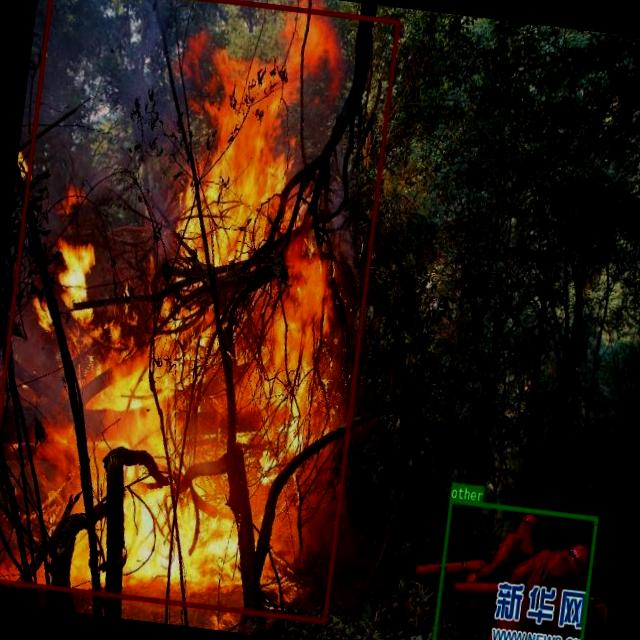fire: (0, 0, 399, 622)
